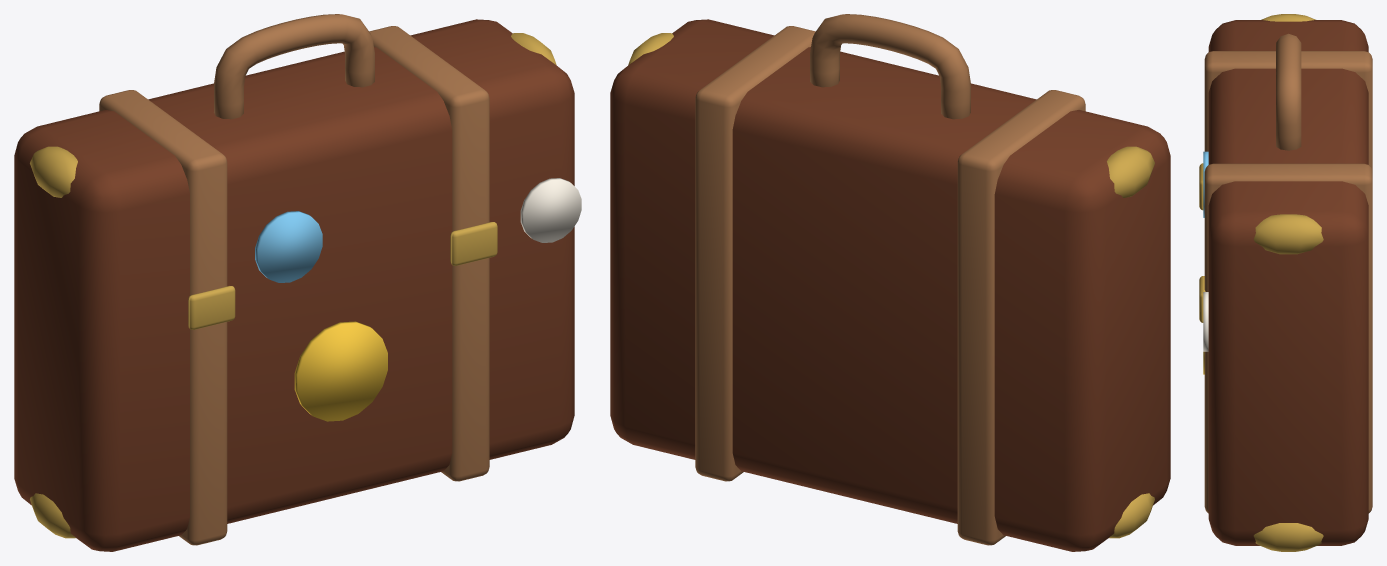
The model's file is koffer.glb.
The picture shows the model from 3 angles, left to right: view 1: azimuth 30°, elevation 25°; view 2: azimuth 150°, elevation 25°; view 3: azimuth 270°, elevation 25°; orthographic projection. The views are drawn at different scales.
Visible parts, largest first — view 1: koffer-matt, koffer-lack, koffer-metall; view 2: koffer-matt, koffer-metall; view 3: koffer-matt, koffer-metall, koffer-lack.
Part boxes in pixels (bbox=[...]): koffer-matt: bbox=[14, 14, 574, 551]; koffer-lack: bbox=[255, 178, 581, 421]; koffer-metall: bbox=[30, 33, 556, 538]; koffer-matt: bbox=[610, 14, 1170, 551]; koffer-metall: bbox=[628, 33, 1154, 538]; koffer-matt: bbox=[1204, 20, 1372, 545]; koffer-metall: bbox=[1199, 14, 1323, 551]; koffer-lack: bbox=[1203, 151, 1208, 374].
Size of the model in its own units: 0.7709 by 0.6659 by 0.26.
